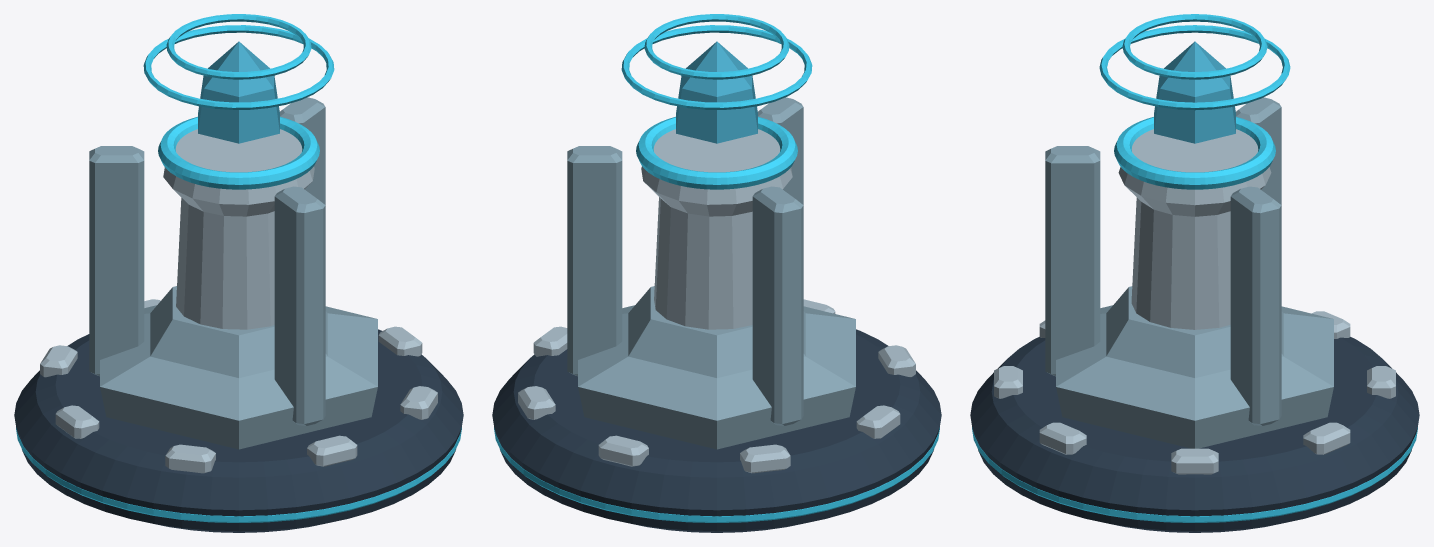
Rendered from decoy.obj.
3 renders of one model, left to right at view 1: azimuth 30°, elevation 25°; view 2: azimuth 150°, elevation 25°; view 3: azimuth 270°, elevation 25°, orthographic.
Visible parts, largest first — view 1: decoy; view 2: decoy; view 3: decoy.
Boxes of the visible parts, x1=… form: decoy: x1=14, y1=14, x2=463, y2=532; decoy: x1=492, y1=14, x2=941, y2=532; decoy: x1=970, y1=14, x2=1419, y2=532.
Bounding box in the file's own units: 0.294 × 0.299 × 0.294.
